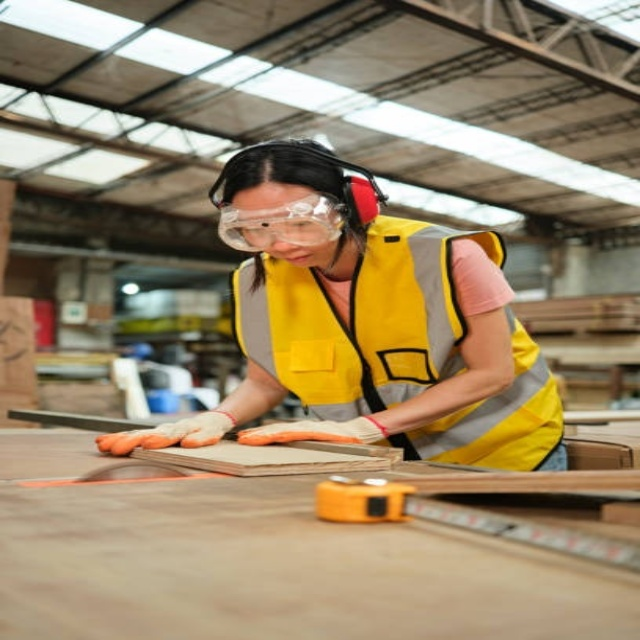Gafas: (216, 193, 348, 251)
Guantes: (98, 410, 239, 454), (237, 415, 388, 447)
Sin_mascara: (273, 250, 317, 268)
